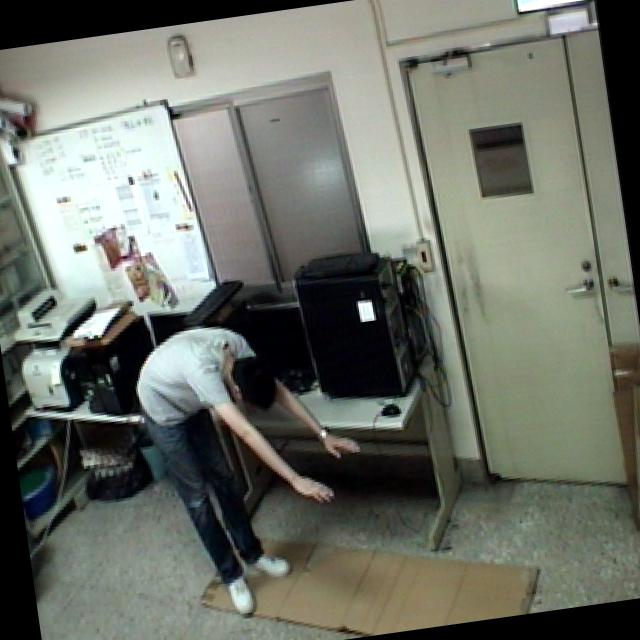bend: (121, 304, 386, 637)
